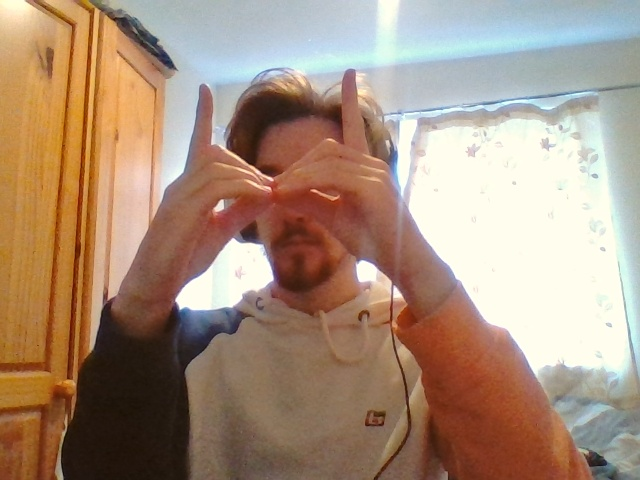meet: (165, 69, 377, 214)
